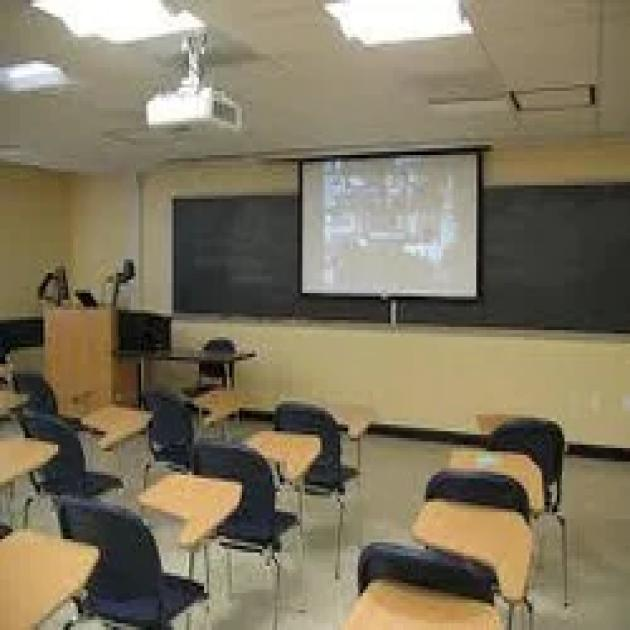chair: (57, 486, 194, 630), (190, 441, 300, 586), (287, 391, 368, 535)
projector: (292, 141, 500, 319)
